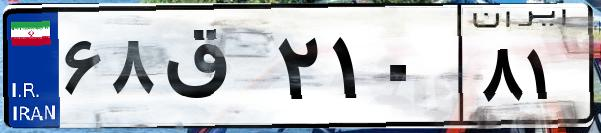0: (385, 28, 445, 110)
1: (330, 28, 385, 110), (525, 38, 570, 115)
2: (270, 28, 330, 110)
6: (57, 26, 110, 100)
8: (475, 38, 525, 113), (110, 28, 158, 98)
ق: (158, 20, 270, 120)
